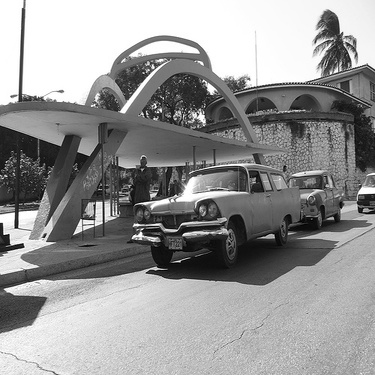car: (125, 159, 304, 272), (285, 169, 348, 227), (358, 168, 372, 214)
